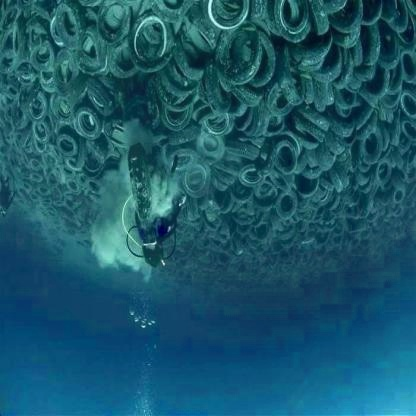tire: (186, 1, 415, 239), (1, 3, 186, 151), (2, 150, 102, 242)
